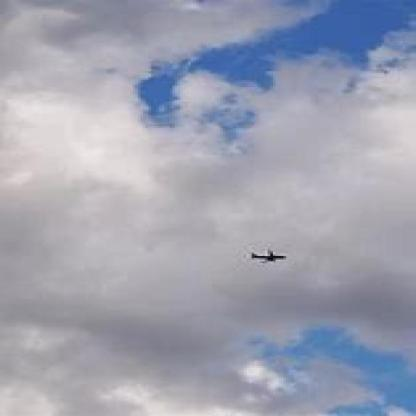plane: (250, 245, 296, 271)
